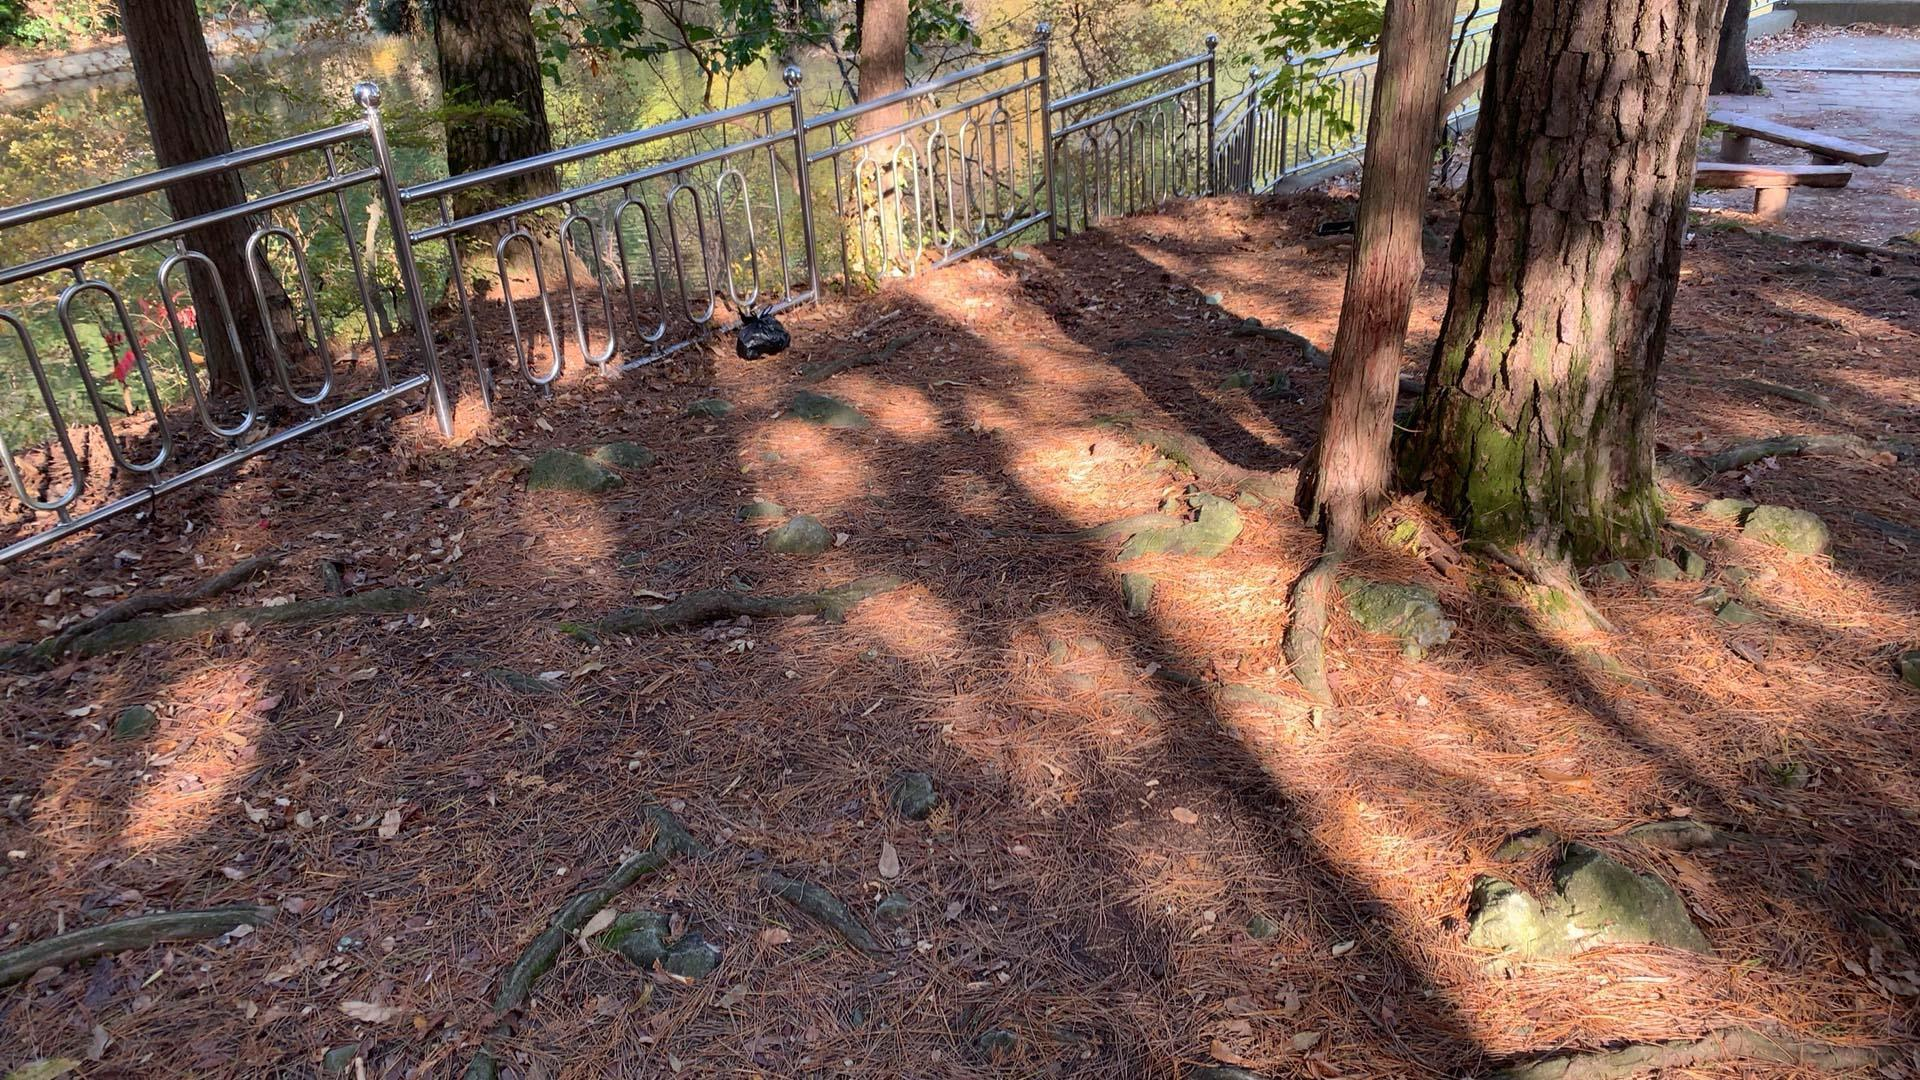white_bag: (727, 301, 793, 361)
